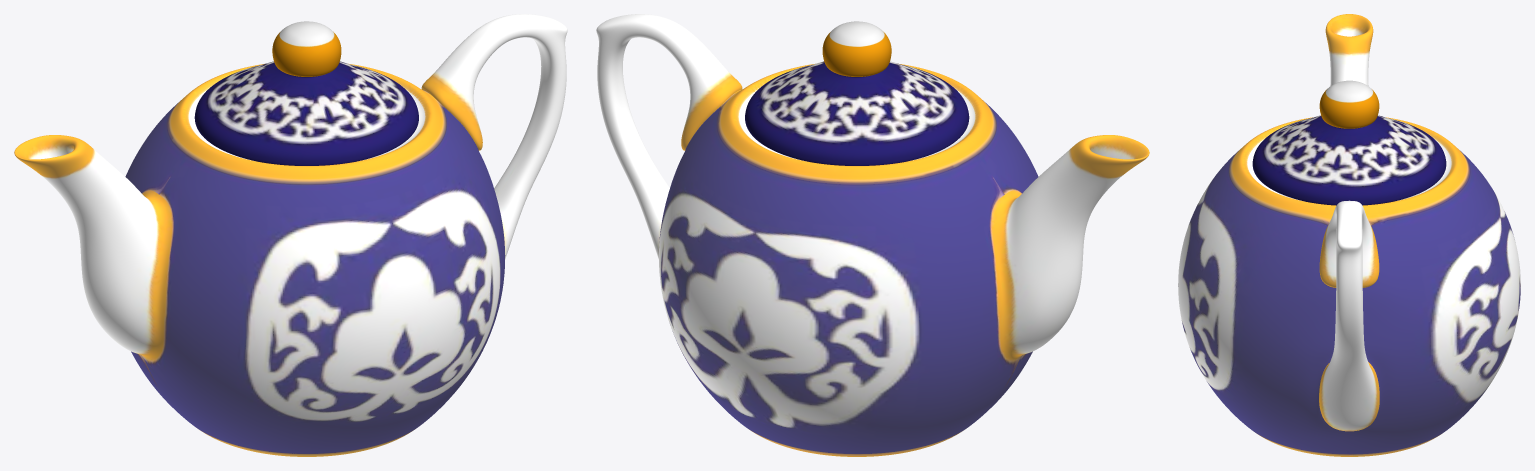
File: kettle.glb
3 renders of one model, left to right at view 1: azimuth 30°, elevation 25°; view 2: azimuth 150°, elevation 25°; view 3: azimuth 270°, elevation 25°, orthographic. The views are drawn at different scales.
Visible parts, largest first — view 1: Choynak, Qopqoq_1; view 2: Choynak, Qopqoq_1; view 3: Choynak, Qopqoq_1.
Boxes of the visible parts, left/top/right/bottom form: Choynak: left=14, top=14, right=567, bottom=456; Qopqoq_1: left=194, top=21, right=418, bottom=165; Choynak: left=596, top=14, right=1149, bottom=456; Qopqoq_1: left=745, top=21, right=969, bottom=165; Choynak: left=1178, top=14, right=1520, bottom=456; Qopqoq_1: left=1252, top=80, right=1446, bottom=205.
Size of the model in its own units: 6.02 by 4.01 by 3.78.
Materials: 2 (2 with a texture image).
